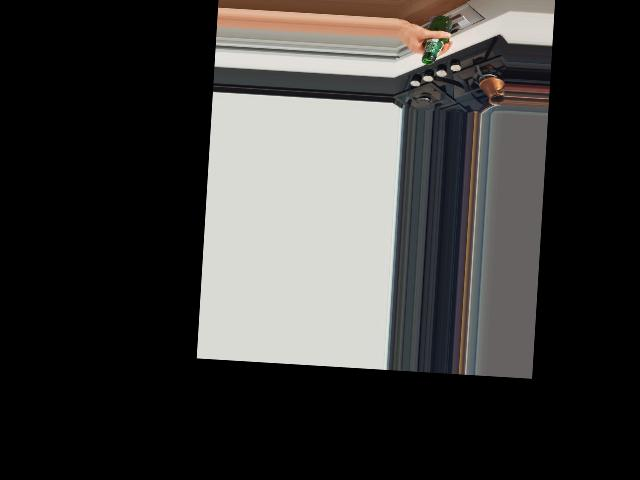beer: (421, 14, 451, 65)
